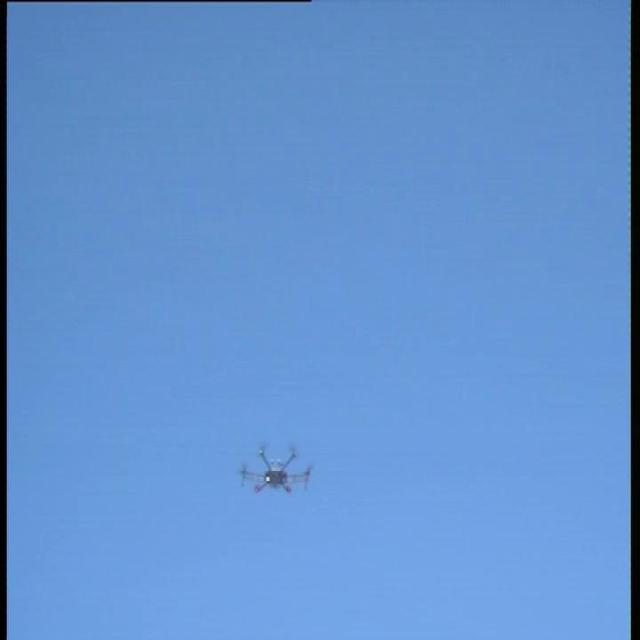drone: (232, 432, 315, 504)
